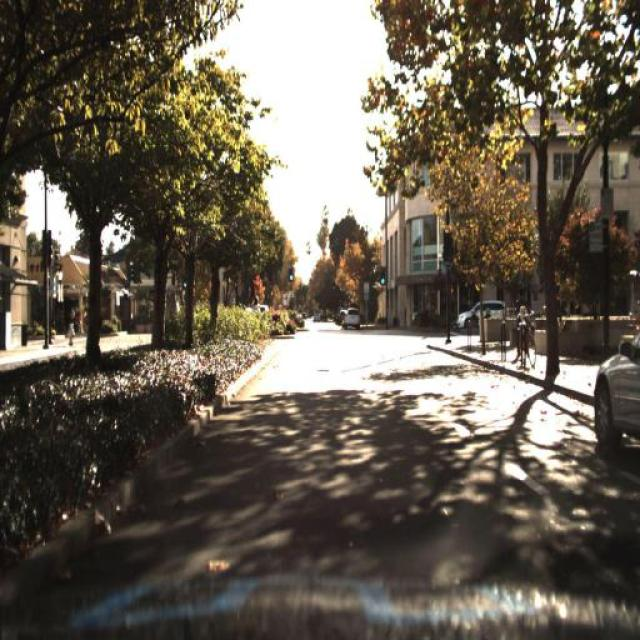car: (450, 300, 511, 330), (456, 293, 504, 331), (341, 298, 364, 338), (344, 306, 360, 328)
trafficLight: (511, 288, 527, 363), (511, 288, 527, 354)
trafficLight-GreenLeft: (377, 263, 387, 291), (284, 262, 296, 284), (378, 260, 389, 282)
trafficLight-Red: (286, 258, 296, 283)
